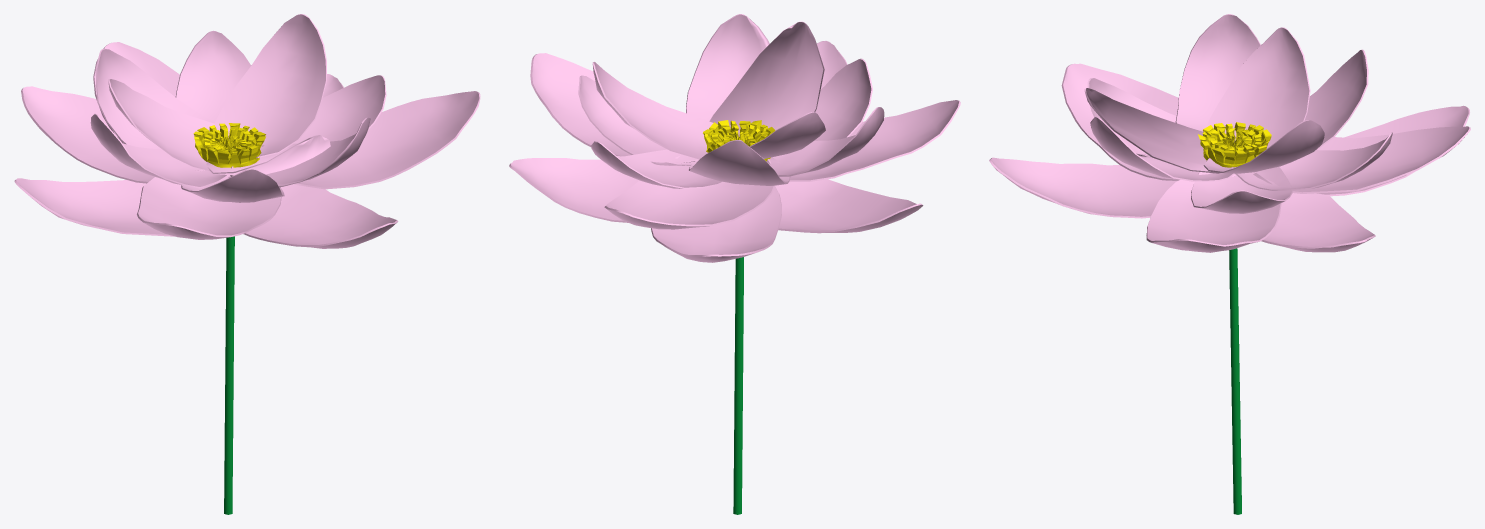
The model's file is LotusC.fbx.
The picture shows the model from 3 angles, left to right: view 1: azimuth 30°, elevation 25°; view 2: azimuth 150°, elevation 25°; view 3: azimuth 270°, elevation 25°; orthographic projection.
Visible parts, largest first — view 1: LotusC, root; view 2: LotusC, root; view 3: LotusC, root.
Part boxes in pixels (x1,y1,x2,y2): LotusC: (14,14,480,248); root: (224,236,234,514); LotusC: (509,14,960,262); root: (733,257,743,514); LotusC: (989,14,1470,252); root: (1229,248,1241,514).
Size of the model in its own units: 7.99 by 8.04 by 7.88.
